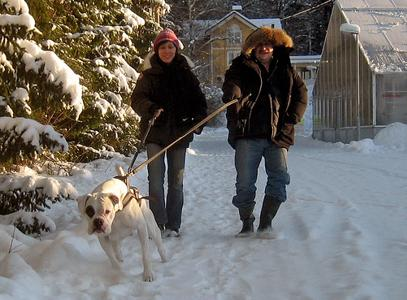person: (226, 28, 307, 237)
